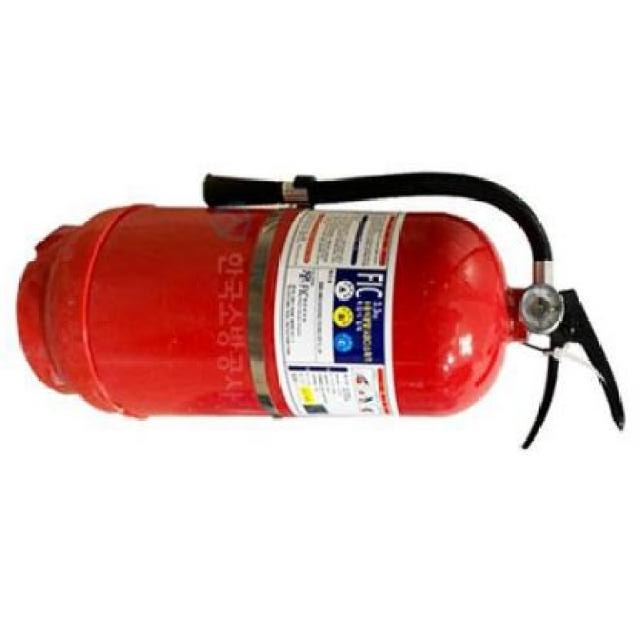fire extinguisher: (16, 171, 627, 451)
